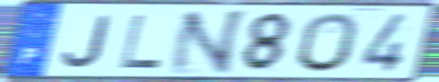4: (357, 11, 414, 75)
8: (237, 10, 296, 73)
J: (60, 14, 114, 69)
L: (117, 13, 164, 71)
N: (166, 8, 252, 76)
O: (295, 11, 361, 74)
